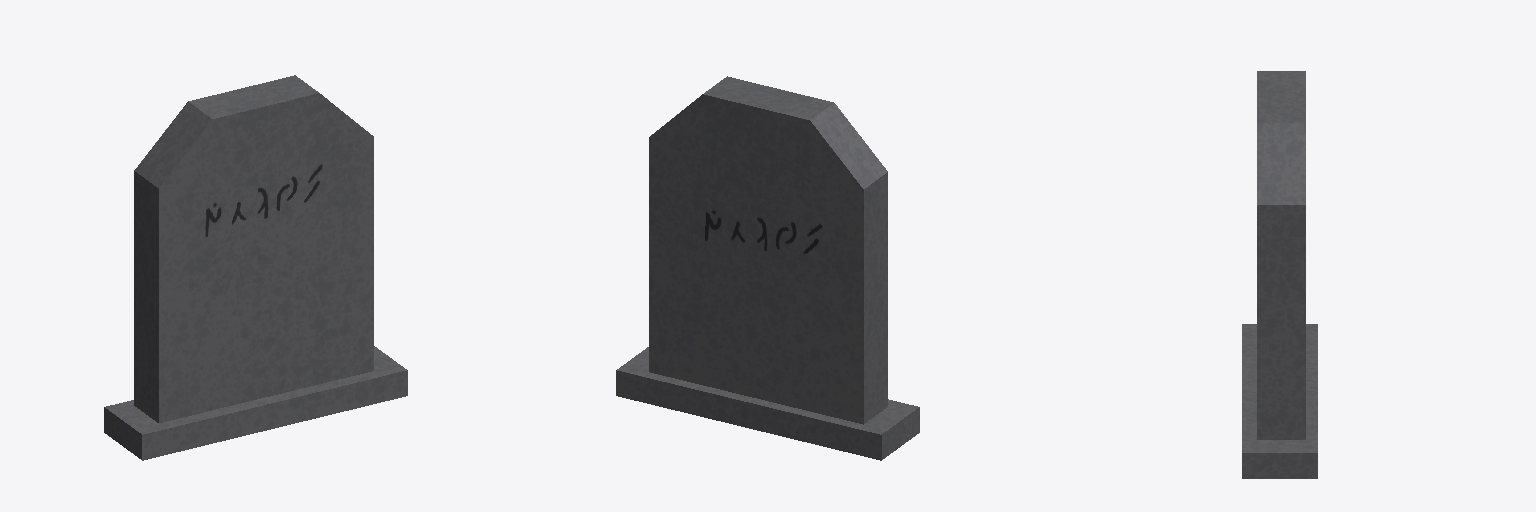
3 views of the same model, side by side, from view 1: azimuth 30°, elevation 25°; view 2: azimuth 150°, elevation 25°; view 3: azimuth 270°, elevation 25° (orthographic).
Parts seen in each view (by area): view 1: TombStoneV3_tombstode_TypeC; view 2: TombStoneV3_tombstode_TypeC; view 3: TombStoneV3_tombstode_TypeC.
Boxes of the visible parts, x1,y1,x2,y2 form: TombStoneV3_tombstode_TypeC: [104, 75, 407, 460]; TombStoneV3_tombstode_TypeC: [616, 76, 919, 460]; TombStoneV3_tombstode_TypeC: [1242, 71, 1317, 478].
Size of the model in its own units: 2.62 by 2.99 by 0.6525.
Materials: 1 (1 with a texture image).